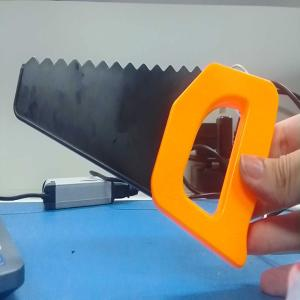serrote: (13, 56, 280, 269)
